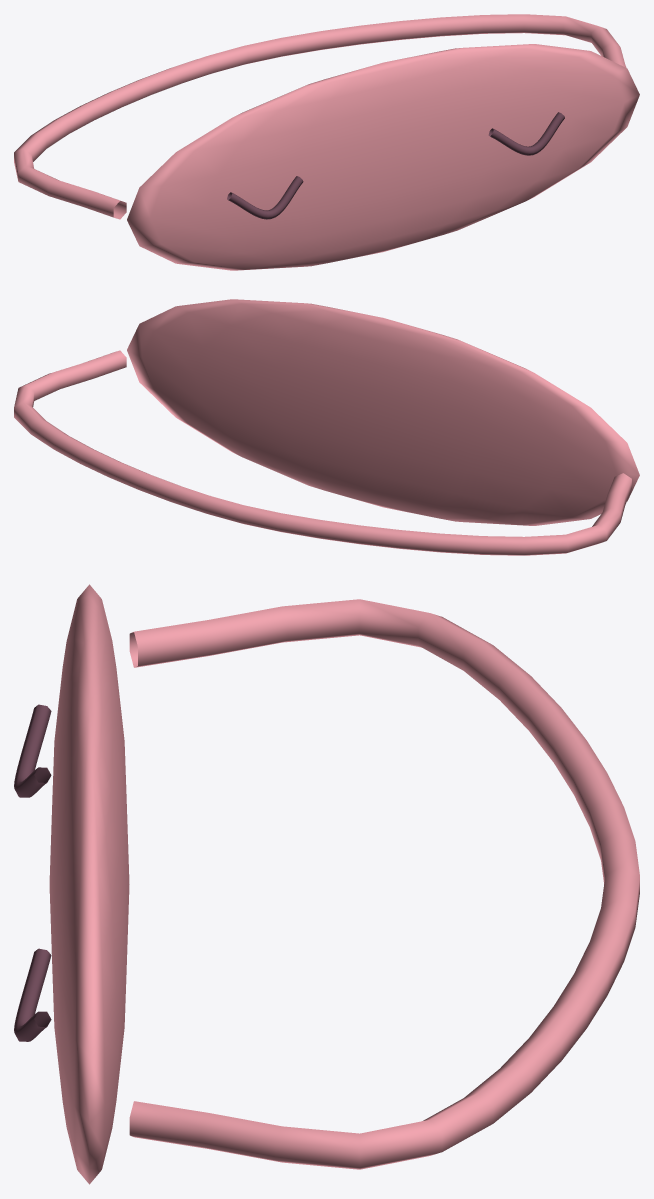
Rendered from mask_sleep.glb.
3 views of the same model, one above another, from view 1: azimuth 30°, elevation 25°; view 2: azimuth 150°, elevation 25°; view 3: azimuth 270°, elevation 25° (orthographic). The views are drawn at different scales.
Visible parts, largest first — view 1: Antifaz sueño; view 2: Antifaz sueño; view 3: Antifaz sueño.
Boxes of the visible parts, x1,y1,x2,y2 form: Antifaz sueño: (14,14,639,270); Antifaz sueño: (14,299,639,555); Antifaz sueño: (14,584,639,1184).
Size of the model in its own units: 0.5848 by 0.18 by 0.2818.
